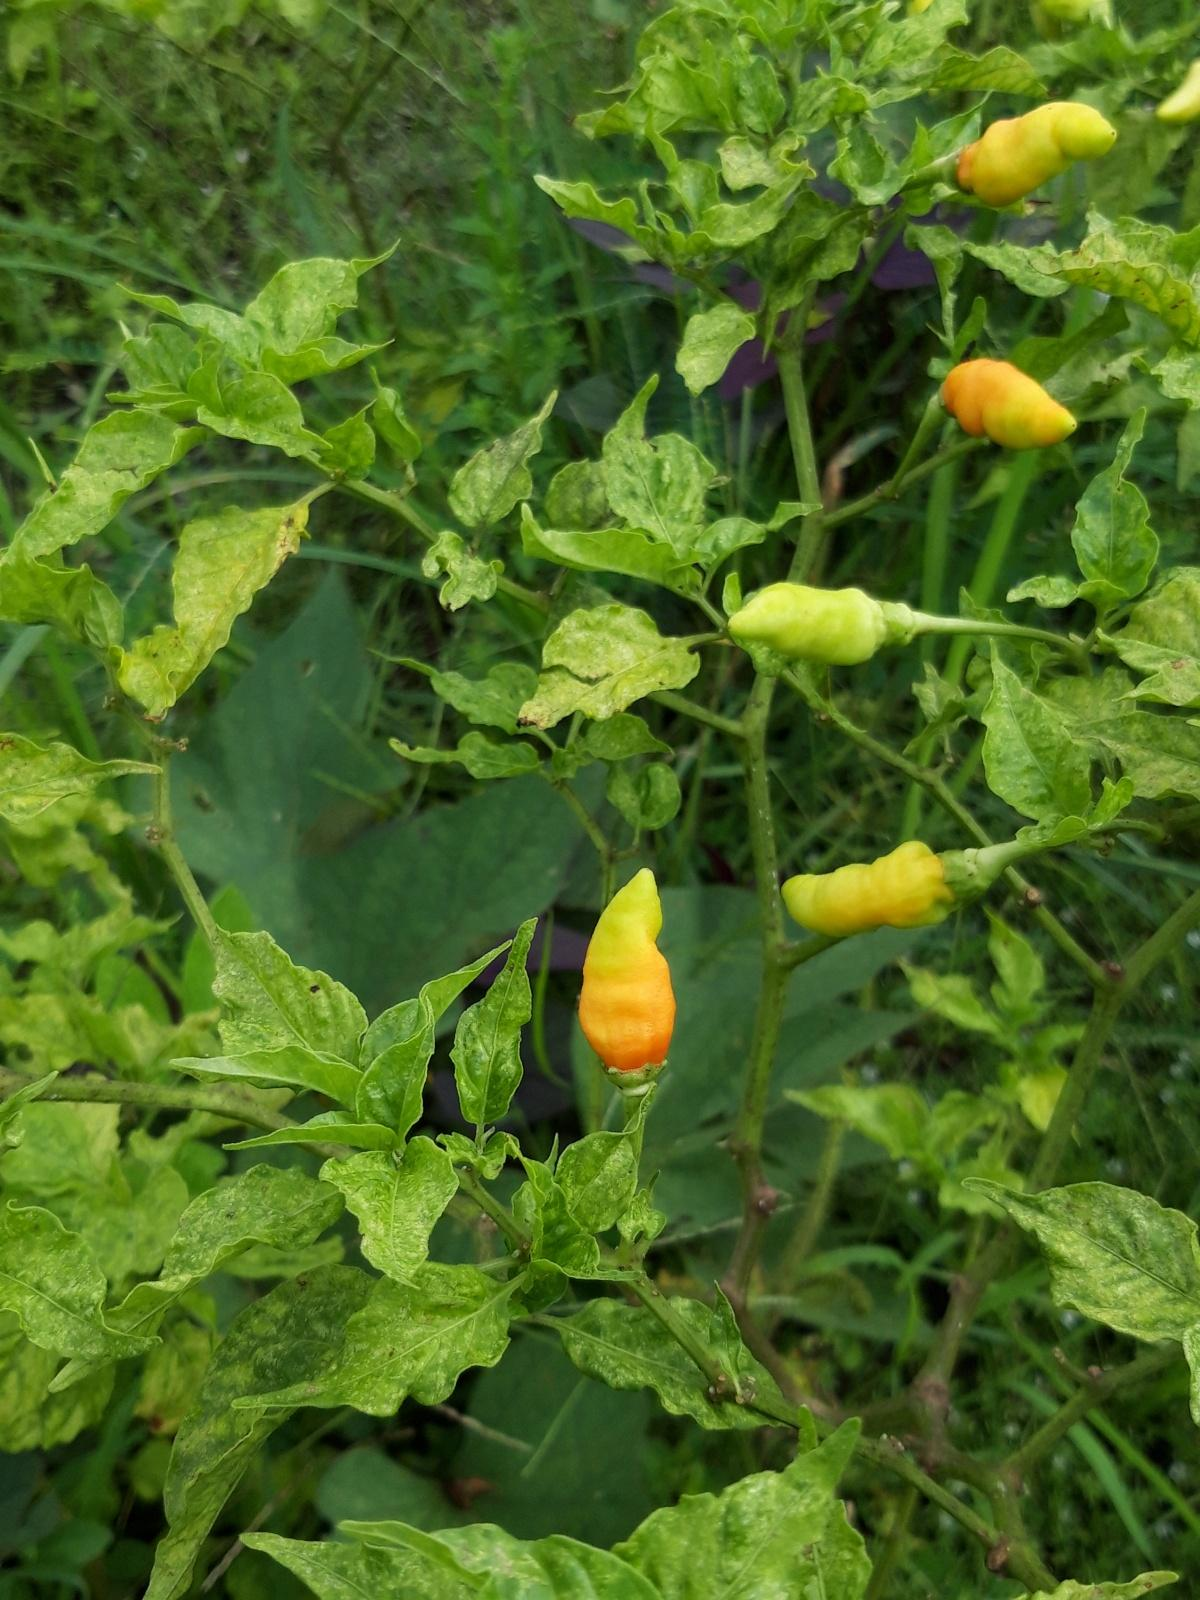cabai_normal: (577, 866, 677, 1072), (963, 97, 1118, 207), (779, 842, 950, 934), (729, 582, 910, 664), (938, 359, 1074, 450)
